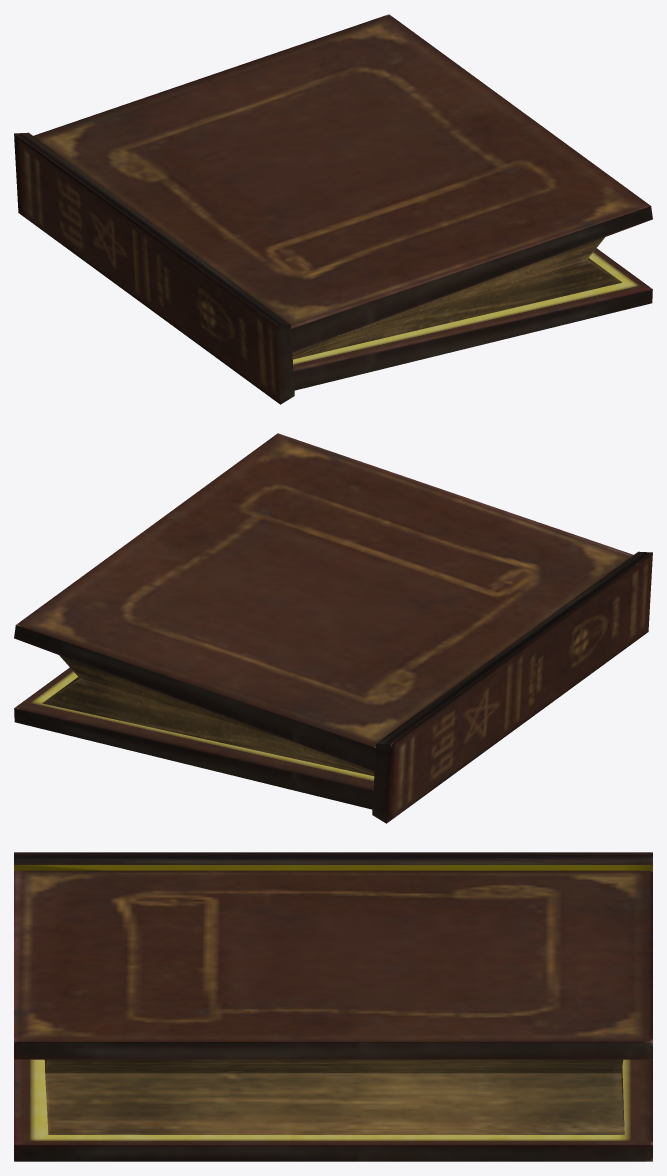
The model's file is LivreMedieval.fbx.
3 views of the same model, one above another, from view 1: azimuth 30°, elevation 25°; view 2: azimuth 150°, elevation 25°; view 3: azimuth 270°, elevation 25° (orthographic). The views are drawn at different scales.
Visible parts, largest first — view 1: LivreMedievalHaut, LivreMedieval; view 2: LivreMedievalHaut, LivreMedieval; view 3: LivreMedievalHaut, LivreMedieval.
Part boxes in pixels (left/top/right/bottom): LivreMedievalHaut: left=33, top=14, right=652, bottom=352; LivreMedieval: left=14, top=132, right=652, bottom=404; LivreMedievalHaut: left=14, top=433, right=633, bottom=771; LivreMedieval: left=14, top=551, right=652, bottom=823; LivreMedievalHaut: left=14, top=870, right=652, bottom=1073; LivreMedieval: left=14, top=852, right=652, bottom=1161.
Bounding box in the file's own units: 16.58 × 4.55 × 19.97.
1 material, 1 textured.
